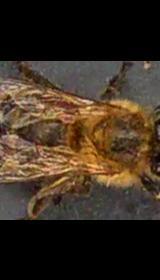varroa_mite: (46, 89, 78, 122)
